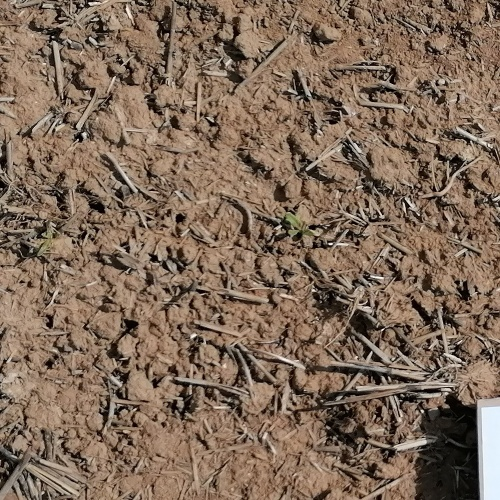beet: (288, 210, 317, 241)
